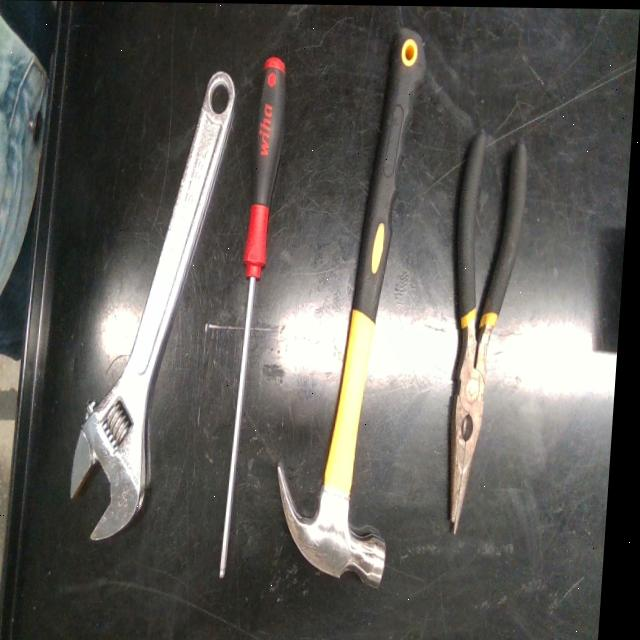Screwdriver: (228, 57, 287, 575)
